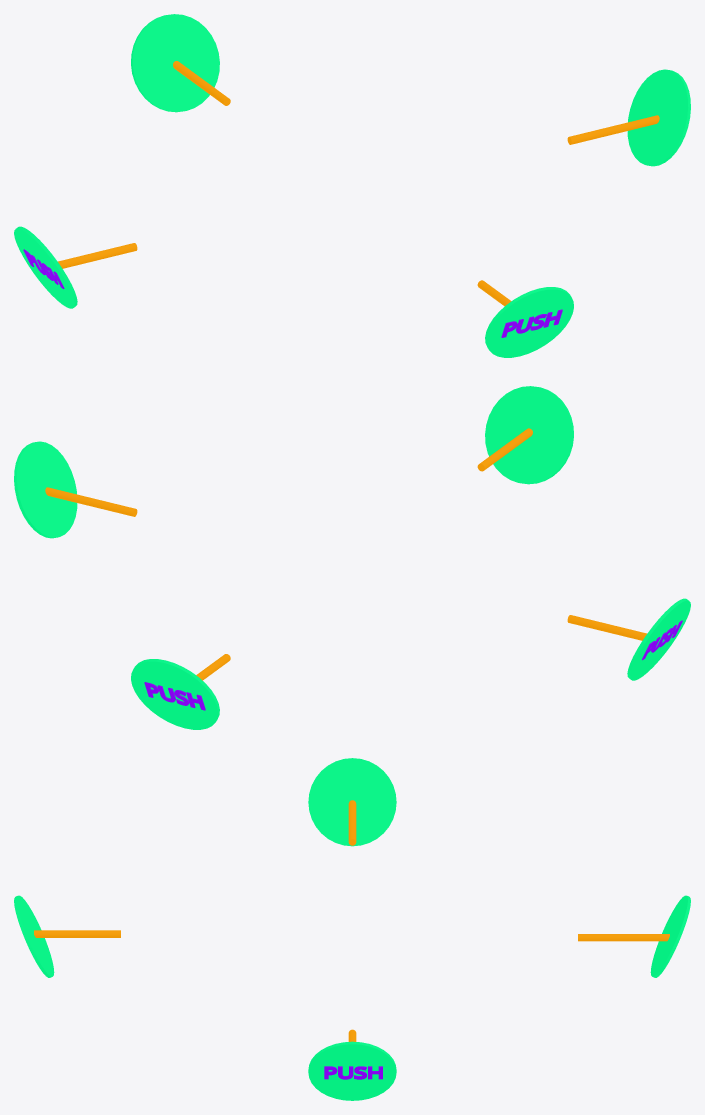
Rendered from animations_buttons.glb.
The picture shows the model from 3 angles, top to bottom: view 1: azimuth 30°, elevation 25°; view 2: azimuth 150°, elevation 25°; view 3: azimuth 270°, elevation 25°; orthographic projection. The views are drawn at different scales.
Visible parts, largest first — view 1: Rings, Bomb, Rotate, Earth, Support.001, Support.003, Support.002; view 2: Rotate, Bomb, Rings, Earth, Support.001, Support.003, Support; view 3: Earth, Bomb, Rings, Rotate, Support.002, Support.
Part boxes in pixels (left/top/right/bottom): Rings: left=131, top=14, right=219, bottom=112; Bomb: left=627, top=69, right=690, bottom=166; Rotate: left=485, top=287, right=573, bottom=357; Earth: left=14, top=226, right=77, bottom=308; Support.001: left=567, top=115, right=659, bottom=144; Support.003: left=58, top=243, right=137, bottom=268; Support.002: left=173, top=61, right=230, bottom=105; Rotate: left=485, top=386, right=573, bottom=484; Bomb: left=14, top=441, right=77, bottom=538; Rings: left=131, top=659, right=219, bottom=729; Earth: left=627, top=598, right=690, bottom=680; Support.001: left=45, top=487, right=137, bottom=516; Support.003: left=567, top=615, right=646, bottom=640; Support: left=477, top=428, right=532, bottom=471; Earth: left=308, top=758, right=396, bottom=846; Bomb: left=308, top=1041, right=396, bottom=1100; Rings: left=650, top=895, right=690, bottom=977; Rotate: left=14, top=895, right=54, bottom=977; Support.002: left=578, top=934, right=669, bottom=941; Support: left=34, top=930, right=120, bottom=937.
Bounding box in the file's own units: 2.04 × 0.2453 × 2.04.
